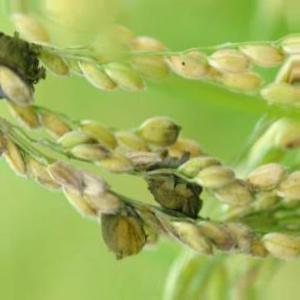Leaf_Scald: (150, 164, 200, 216), (0, 30, 42, 91), (98, 209, 140, 257)
